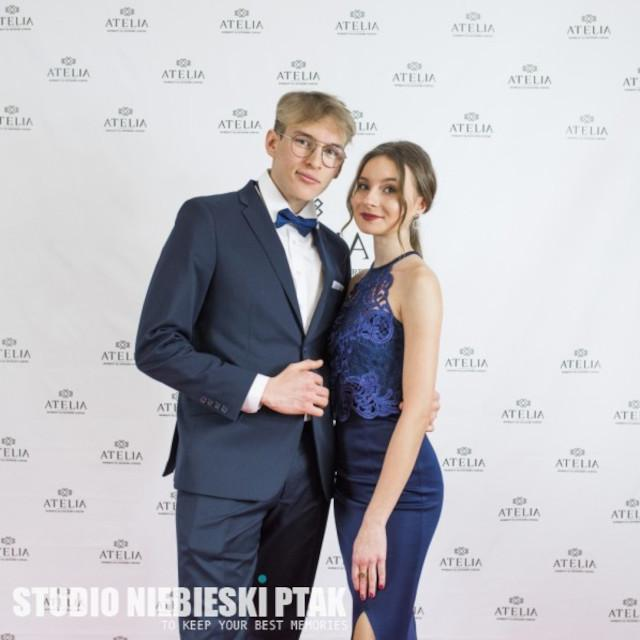kobieta: (325, 137, 442, 640)
mezczyzna: (136, 90, 351, 640)
